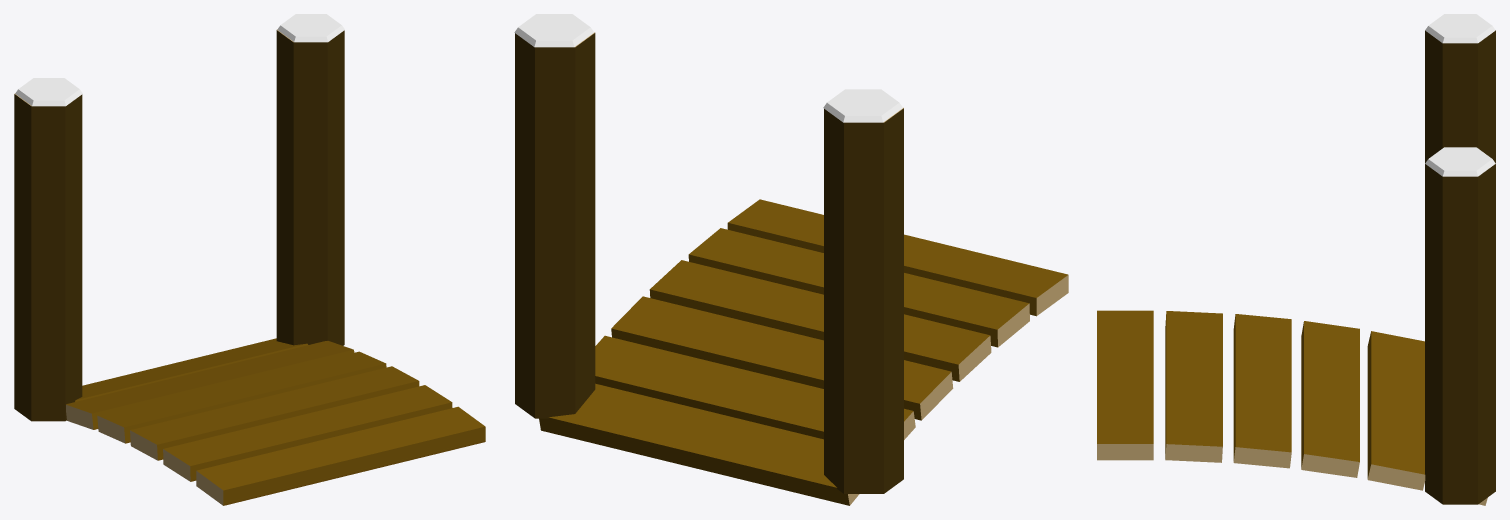
The model's file is Bridge_1_Snow.fbx.
3 views of the same model, side by side, from view 1: azimuth 30°, elevation 25°; view 2: azimuth 150°, elevation 25°; view 3: azimuth 270°, elevation 25° (orthographic). The views are drawn at different scales.
Parts seen in each view (by area): view 1: Bridge_1_Snow; view 2: Bridge_1_Snow; view 3: Bridge_1_Snow.
Part boxes in pixels (x1,y1,x2,y2): Bridge_1_Snow: (14,14,485,505); Bridge_1_Snow: (514,14,1068,505); Bridge_1_Snow: (1097,14,1495,505).
Bounding box in the file's own units: 3.59 × 3.65 × 3.79.
